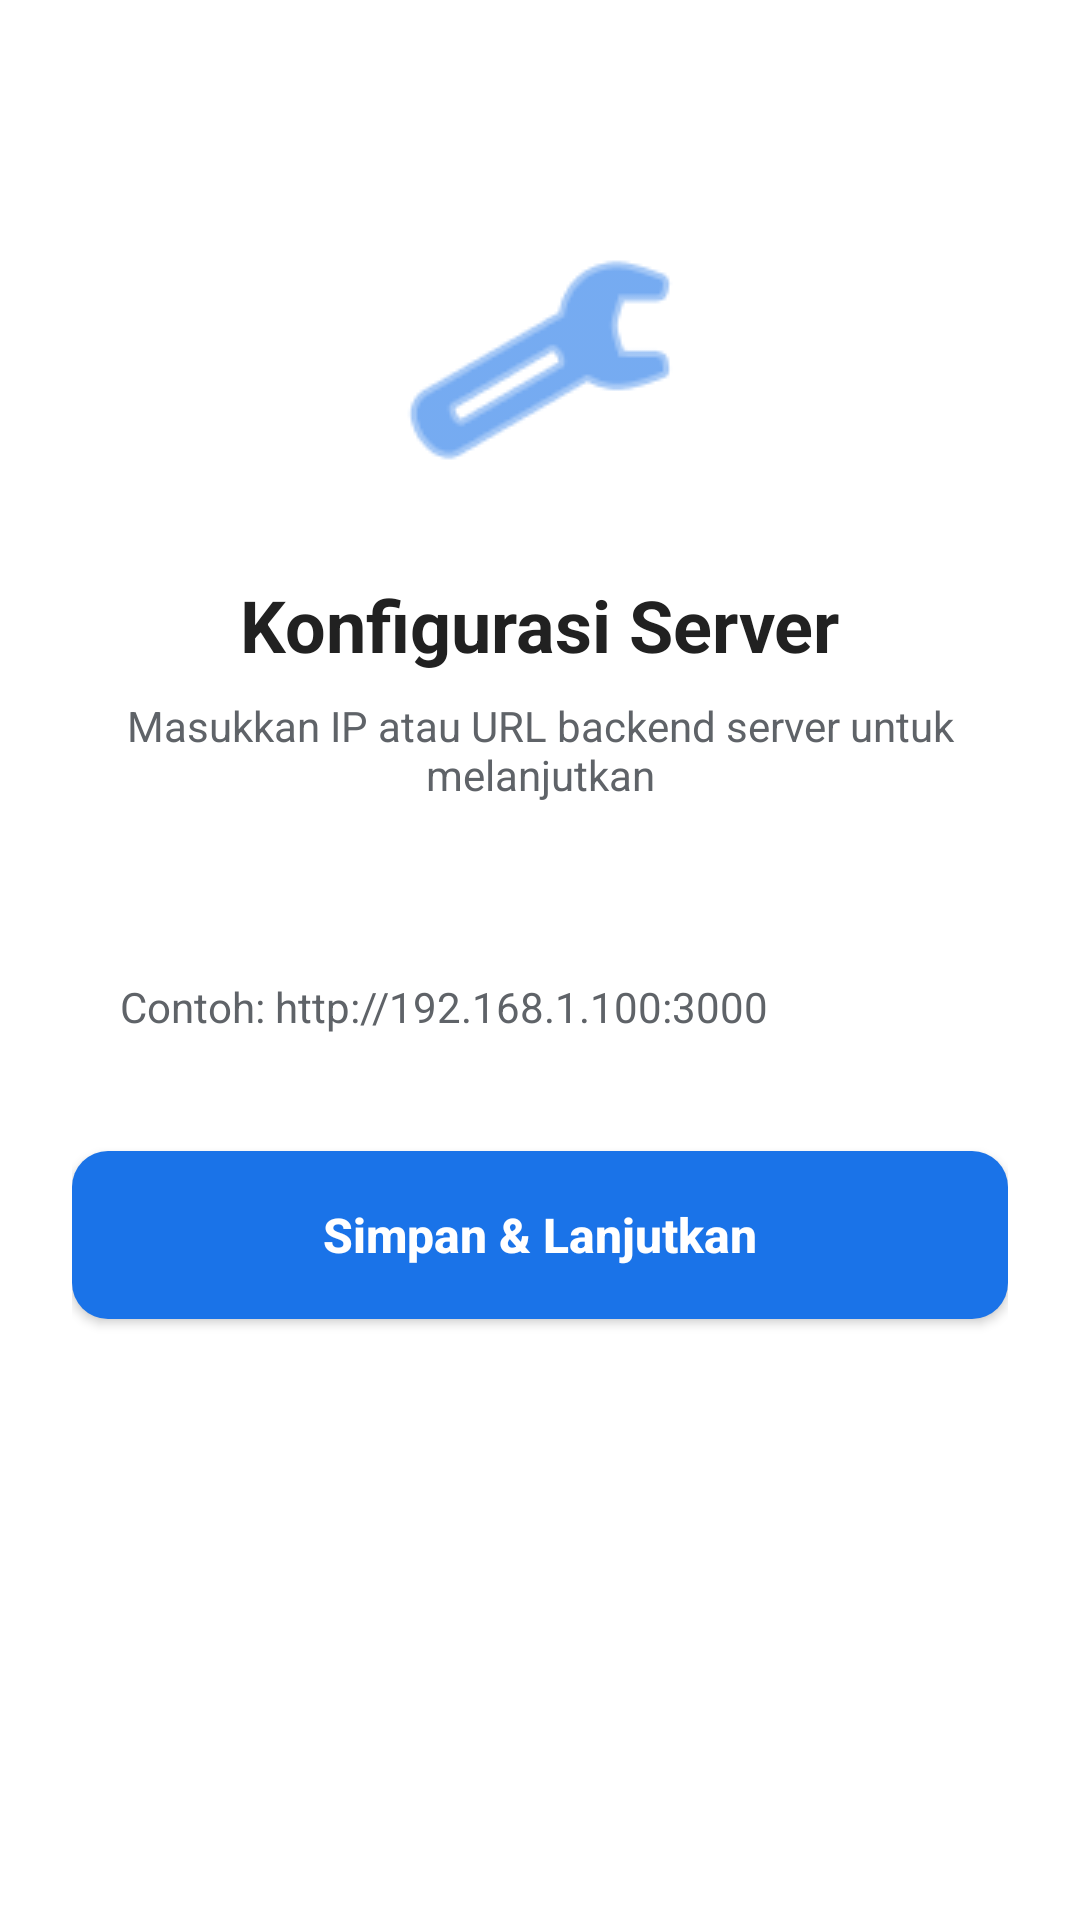

Icon click points for this 1080x1920 phone screenshot, format point (x, y):
manage: point (540, 360)
